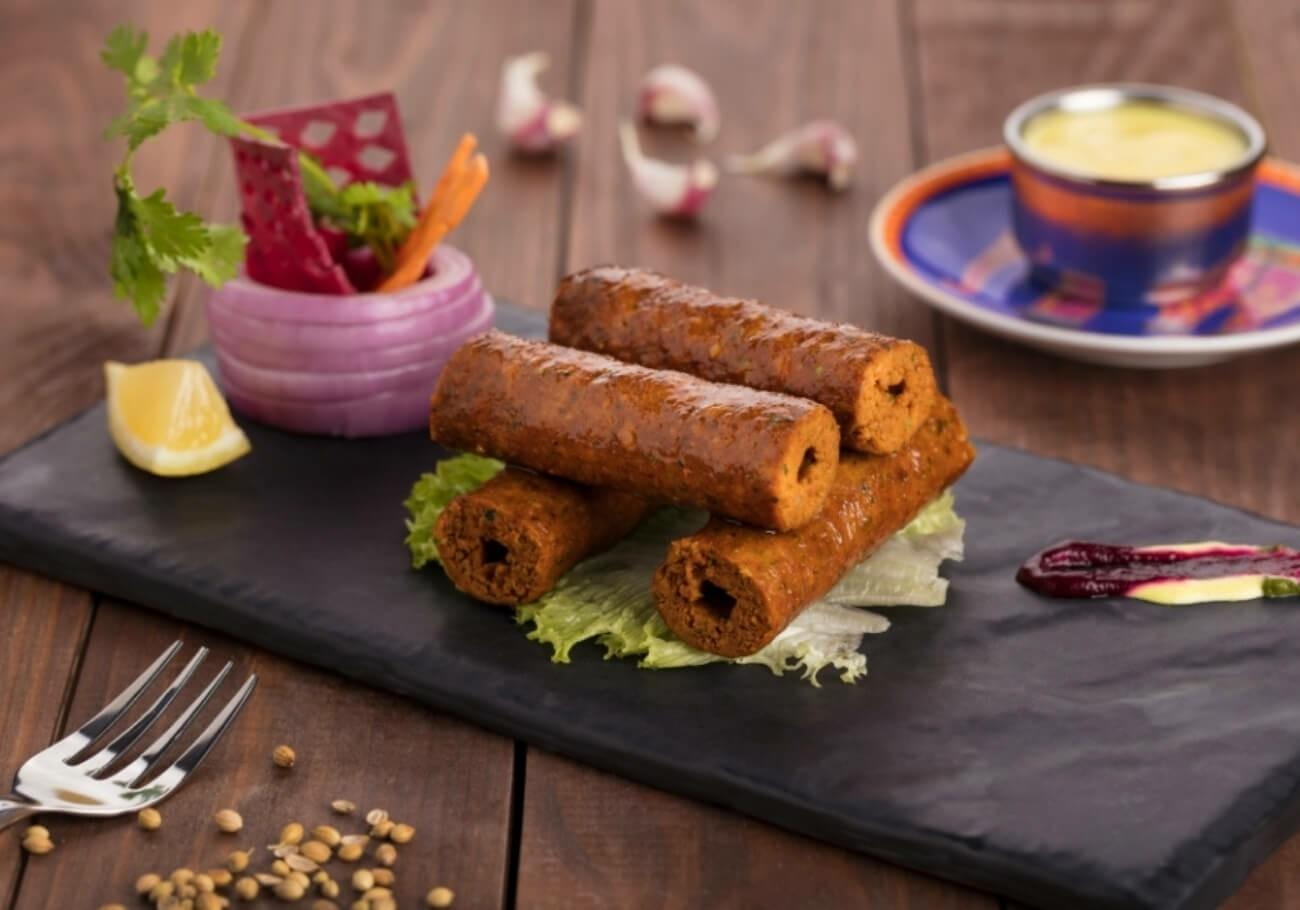Kebab: (651, 398, 975, 658), (428, 331, 839, 529), (549, 267, 932, 454), (433, 462, 656, 603)
